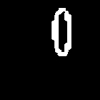chain: (52, 8, 70, 55)
